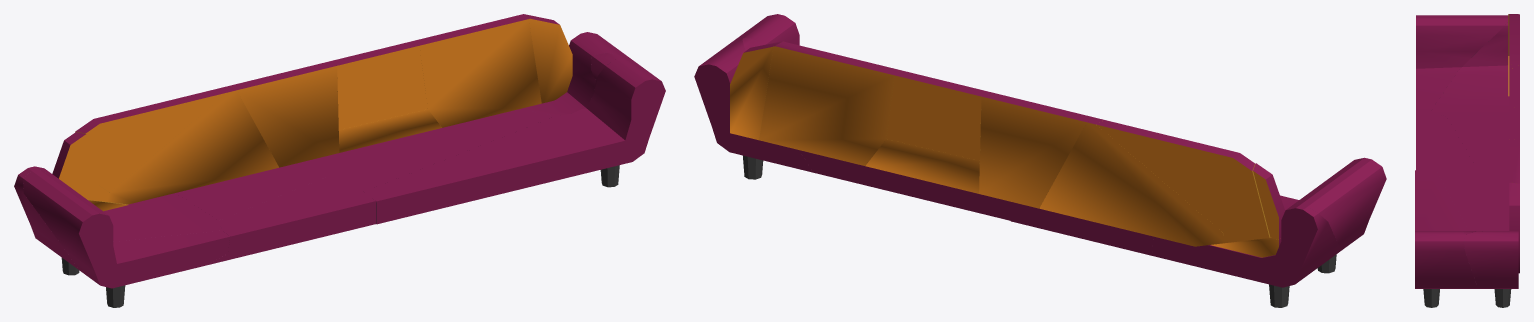
The model's file is Sofa_Fractured.fbx.
3 views of the same model, side by side, from view 1: azimuth 30°, elevation 25°; view 2: azimuth 150°, elevation 25°; view 3: azimuth 270°, elevation 25° (orthographic). The views are drawn at different scales.
Visible parts, largest first — view 1: polySurface1748.001_cell.002, polySurface1748_cell.003_cell.002, polySurface1748.001_cell.003_cell.002, polySurface1748_cell.001_cell.001, polySurface1748_cell.001_cell.002, polySurface1748.001_cell.003_cell.003, polySurface1748.001_cell.004, polySurface1748_cell.001_cell, polySurface1748_cell.003_cell, polySurface1748.001_cell.003_cell, polySurface1748.001_cell.003_cell.001, polySurface1748_cell.003_cell.001 (+4 smaller); view 2: polySurface1748_cell.003_cell.002, polySurface1748_cell.001_cell.001, polySurface1748_cell.001_cell.002, polySurface1748_cell.001_cell, polySurface1748.001_cell.003_cell, polySurface1748_cell.003_cell, polySurface1748.001_cell.003_cell.002, polySurface1748.001_cell.001, polySurface1748.001_cell.004, polySurface1748_cell.003_cell.003, polySurface1748_cell.003_cell.001, polySurface1748.001_cell.003_cell.001 (+4 smaller); view 3: polySurface1748.001_cell.002, polySurface1748.001_cell.003_cell.002, polySurface1748.001_cell.003_cell, polySurface1748.001_cell.004, polySurface1748.001_cell.001, polySurface1748.001_cell.003_cell.003, polySurface1748.001_cell.003_cell.001, polySurface1748_cell.003_cell.001, polySurface1748_cell.001_cell, polySurface1748_cell.003_cell.002, polySurface1748_cell.001_cell.002, polySurface1748_cell.003_cell (+3 smaller).
Boxes of the visible parts, x1,y1,x2,y2 form: polySurface1748.001_cell.002: [364, 57, 665, 224]; polySurface1748_cell.003_cell.002: [412, 14, 541, 127]; polySurface1748.001_cell.003_cell.002: [23, 170, 230, 288]; polySurface1748_cell.001_cell.001: [107, 85, 278, 204]; polySurface1748_cell.001_cell.002: [231, 61, 339, 167]; polySurface1748.001_cell.003_cell.003: [219, 174, 375, 259]; polySurface1748.001_cell.004: [309, 109, 555, 191]; polySurface1748_cell.001_cell: [75, 87, 226, 192]; polySurface1748_cell.003_cell: [330, 41, 427, 129]; polySurface1748.001_cell.003_cell: [14, 166, 228, 269]; polySurface1748.001_cell.003_cell.001: [176, 160, 332, 220]; polySurface1748_cell.003_cell.001: [525, 14, 572, 103]; polySurface1748_cell.003_cell.002: [759, 41, 899, 165]; polySurface1748_cell.001_cell.001: [1039, 117, 1225, 246]; polySurface1748_cell.001_cell.002: [979, 91, 1093, 208]; polySurface1748_cell.001_cell: [1096, 120, 1261, 232]; polySurface1748.001_cell.003_cell: [1152, 203, 1341, 287]; polySurface1748_cell.003_cell: [886, 70, 986, 160]; polySurface1748.001_cell.003_cell.002: [1280, 157, 1386, 250]; polySurface1748.001_cell.001: [694, 38, 812, 172]; polySurface1748.001_cell.004: [799, 150, 1012, 220]; polySurface1748_cell.003_cell.003: [865, 139, 979, 193]; polySurface1748_cell.003_cell.001: [730, 41, 783, 140]; polySurface1748.001_cell.003_cell.001: [1010, 202, 1153, 255]; polySurface1748.001_cell.002: [1415, 170, 1478, 288]; polySurface1748.001_cell.003_cell.002: [1416, 15, 1508, 113]; polySurface1748.001_cell.003_cell: [1429, 22, 1509, 116]; polySurface1748.001_cell.004: [1436, 166, 1509, 230]; polySurface1748.001_cell.001: [1464, 231, 1518, 288]; polySurface1748.001_cell.003_cell.003: [1416, 113, 1476, 170]; polySurface1748.001_cell.003_cell.001: [1447, 114, 1509, 168]; polySurface1748_cell.003_cell.001: [1509, 182, 1519, 273]; polySurface1748_cell.001_cell: [1509, 14, 1519, 65]; polySurface1748_cell.003_cell.002: [1509, 139, 1519, 184]; polySurface1748_cell.001_cell.002: [1509, 68, 1519, 107]; polySurface1748_cell.003_cell: [1509, 107, 1519, 139].
Size of the model in its own units: 4026 by 900 by 777.
